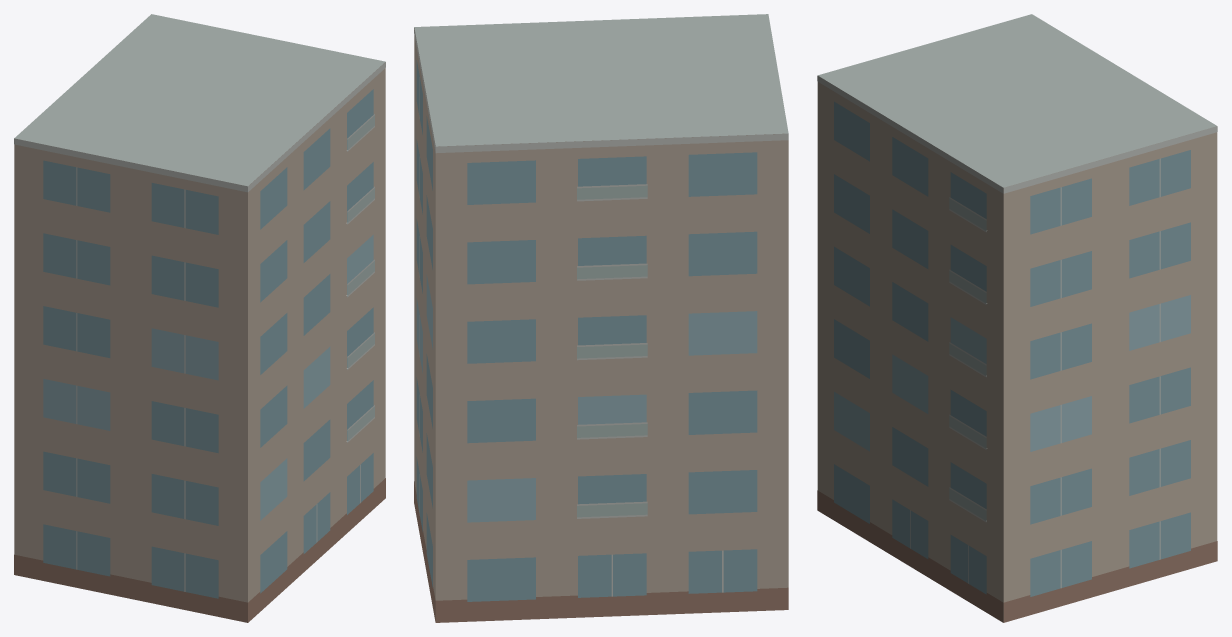
File: survey-upis-32995615.glb
3 renders of one model, left to right at view 1: azimuth 30°, elevation 25°; view 2: azimuth 150°, elevation 25°; view 3: azimuth 270°, elevation 25°, orthographic. The views are drawn at different scales.
Visible parts, largest first — view 1: survey-upis-32995615.tmp; view 2: survey-upis-32995615.tmp; view 3: survey-upis-32995615.tmp.
Boxes of the visible parts, x1=… form: survey-upis-32995615.tmp: x1=14, y1=14, x2=385, y2=622; survey-upis-32995615.tmp: x1=414, y1=14, x2=788, y2=622; survey-upis-32995615.tmp: x1=817, y1=14, x2=1217, y2=622.
Size of the model in its own units: 15 by 17.5 by 14.59.
